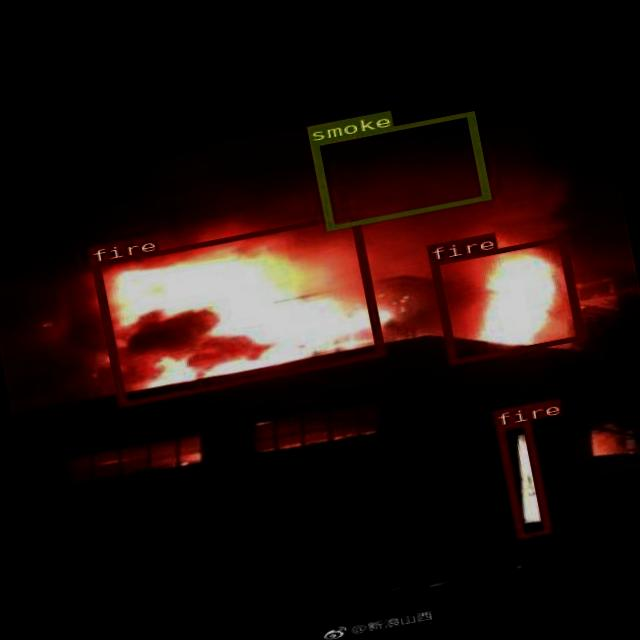fire: (90, 212, 383, 407), (429, 235, 583, 365), (494, 420, 551, 540)
smoke: (308, 112, 489, 230)
